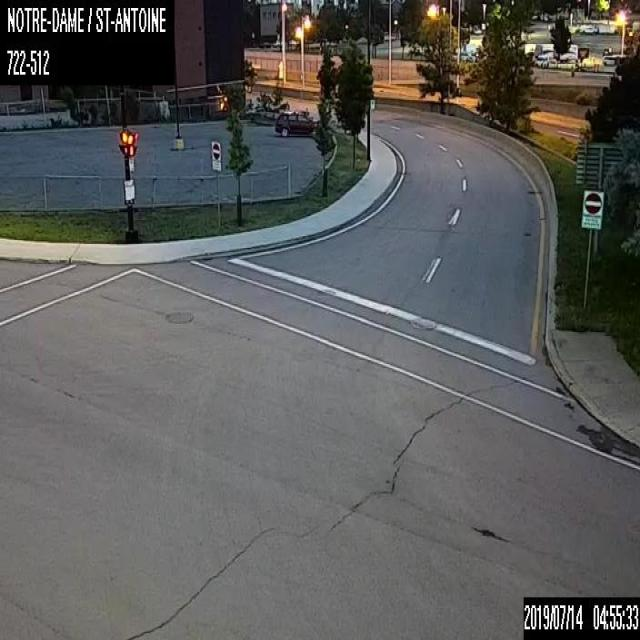vehicle: (274, 110, 319, 136)
